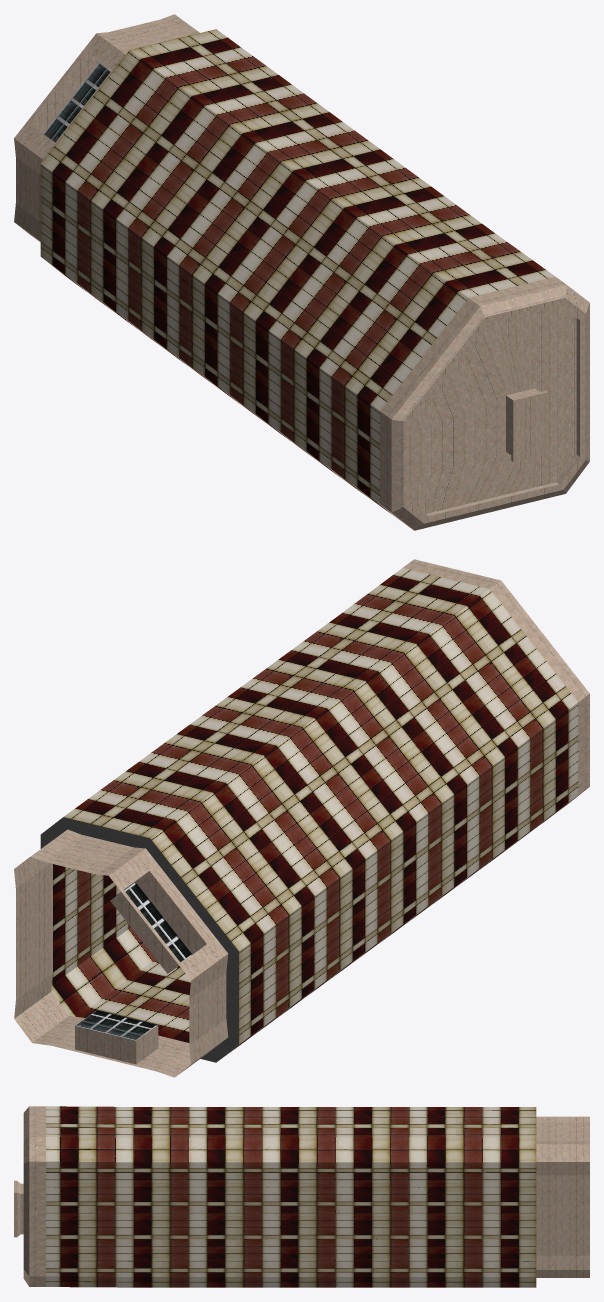
File: skyscraper_windowF_07.obj
3 renders of one model, top to bottom at view 1: azimuth 30°, elevation 25°; view 2: azimuth 150°, elevation 25°; view 3: azimuth 270°, elevation 25°, orthographic. The views are drawn at different scales.
Parts seen in each view (by area): view 1: Object98; view 2: Object98; view 3: Object98.
Boxes of the visible parts, x1,y1,x2,y2 form: Object98: (14,14,589,530); Object98: (14,559,589,1077); Object98: (14,1106,589,1287).
Size of the model in its own units: 36.05 by 36.33 by 126.
Materials: 4 (4 with a texture image).
